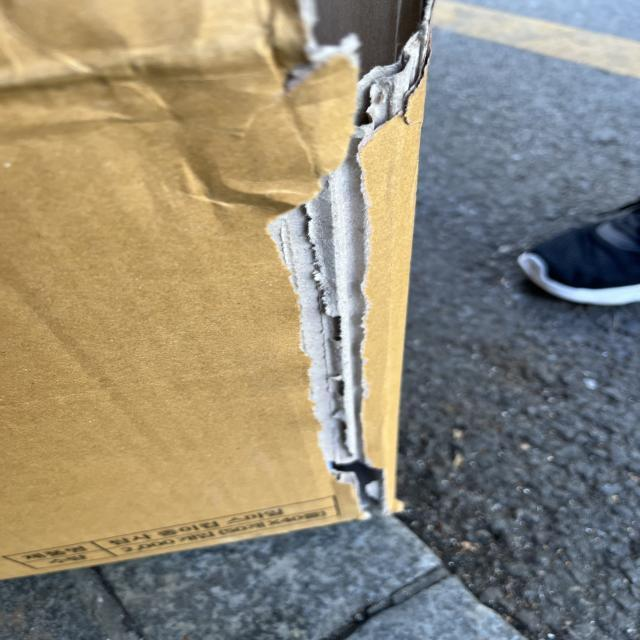hole: (257, 1, 420, 521)
